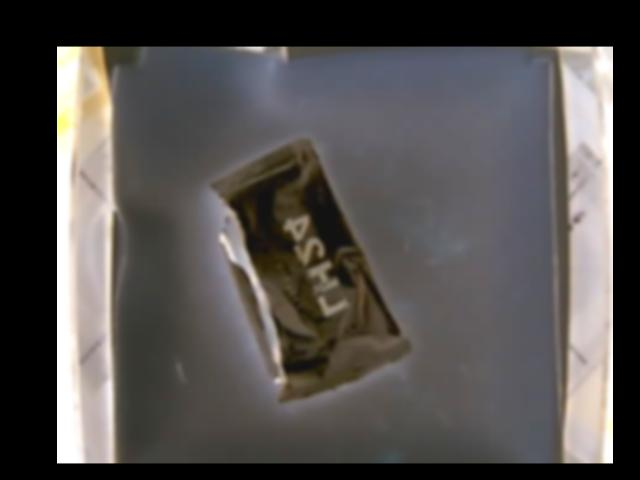Medicine: (209, 136, 408, 401)
